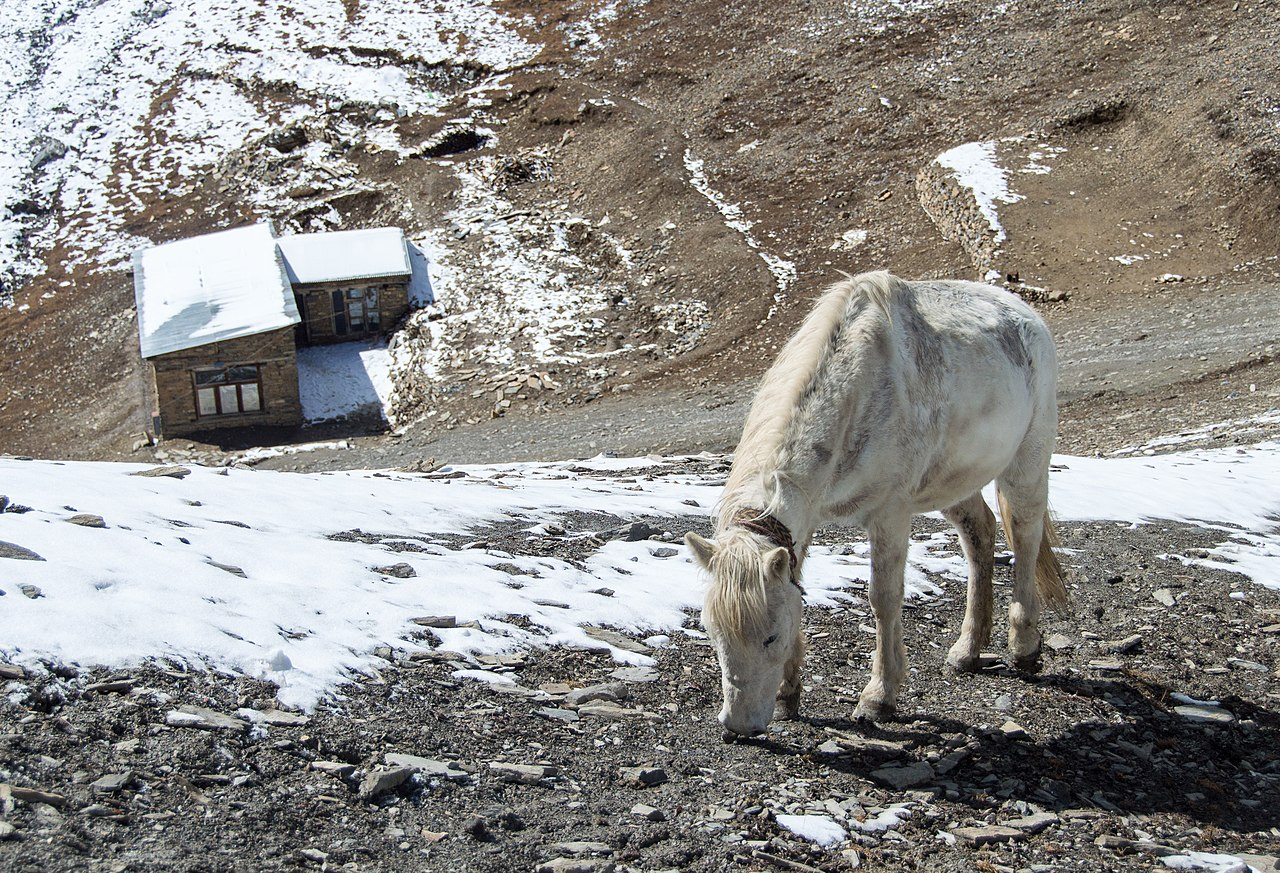equine: (676, 220, 1102, 799)
